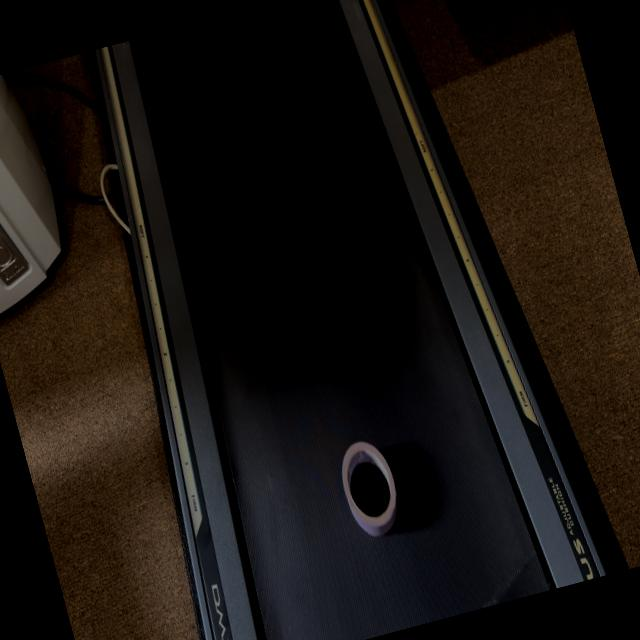Trash: (332, 432, 408, 542)
